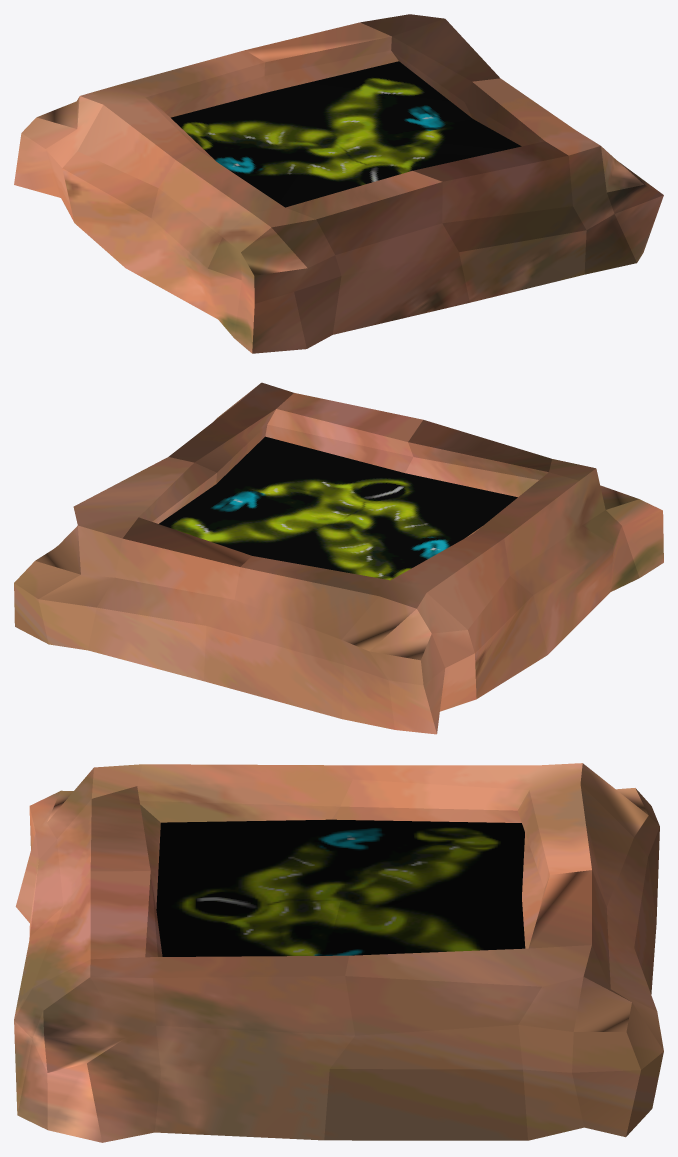
File: implant_object.glb
3 views of the same model, one above another, from view 1: azimuth 30°, elevation 25°; view 2: azimuth 150°, elevation 25°; view 3: azimuth 270°, elevation 25° (orthographic). The views are drawn at different scales.
Parts seen in each view (by area): view 1: Cube; view 2: Cube; view 3: Cube.
Part boxes in pixels (box(x1,y1,x2,y2)): Cube: box(14, 14, 663, 353); Cube: box(14, 382, 663, 734); Cube: box(14, 763, 663, 1142).
Size of the model in its own units: 0.3511 by 0.0845 by 0.3482.
Materials: 2 (2 with a texture image).
